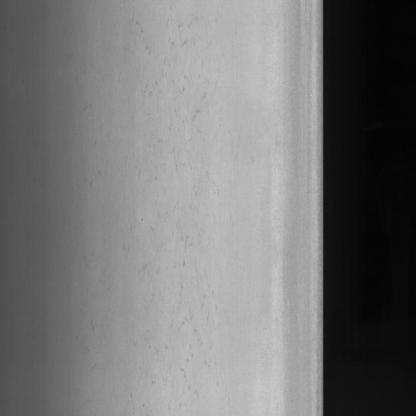silk_spot: (108, 4, 229, 416)
